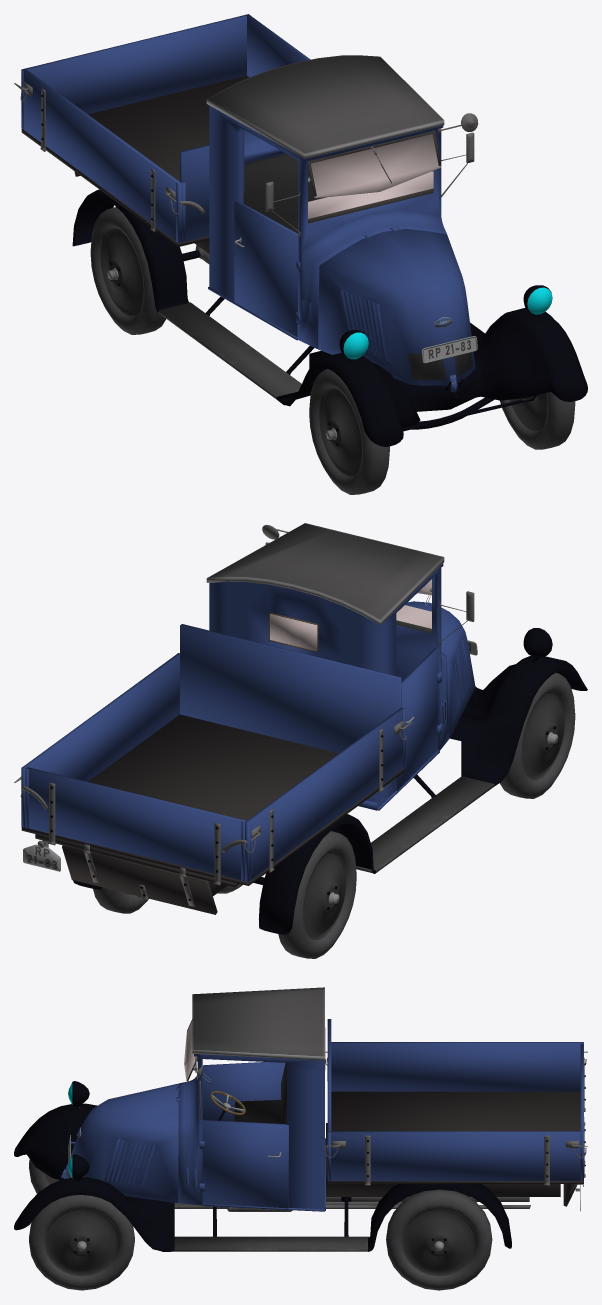
The model's file is phaenomen4rl.fbx.
3 renders of one model, top to bottom at view 1: azimuth 30°, elevation 25°; view 2: azimuth 150°, elevation 25°; view 3: azimuth 270°, elevation 25°, orthographic. The views are drawn at different scales.
Parts seen in each view (by area): view 1: paenomen_textured; view 2: paenomen_textured; view 3: paenomen_textured.
Boxes of the visible parts, x1,y1,x2,y2 form: paenomen_textured: (14,14,587,494); paenomen_textured: (14,523,587,958); paenomen_textured: (14,987,587,1290).
Size of the model in its own units: 1.73 by 2.05 by 4.42.
